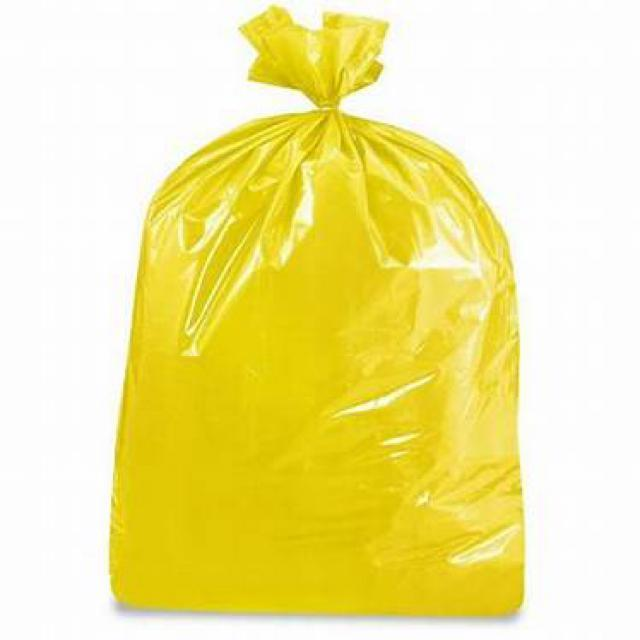waste: (120, 4, 532, 619)
